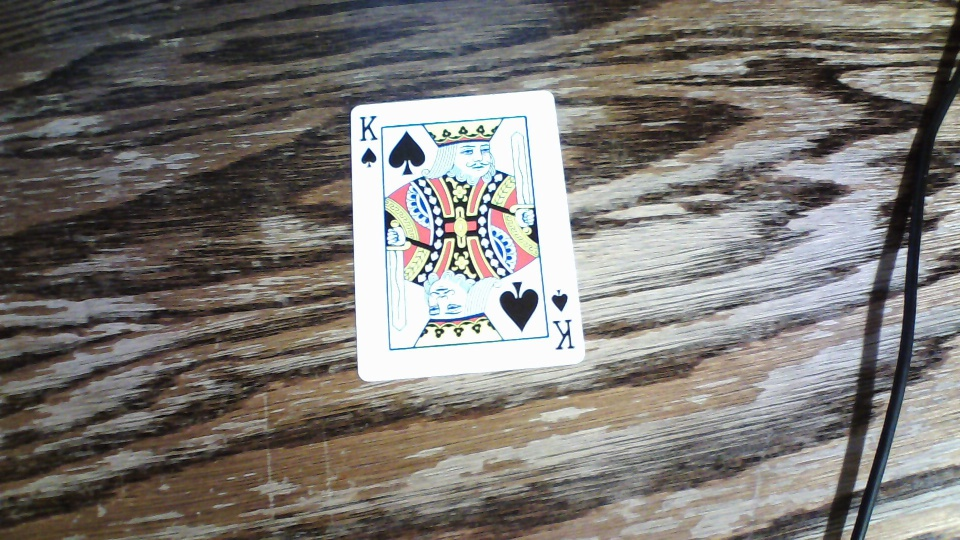king: (350, 89, 587, 383)
